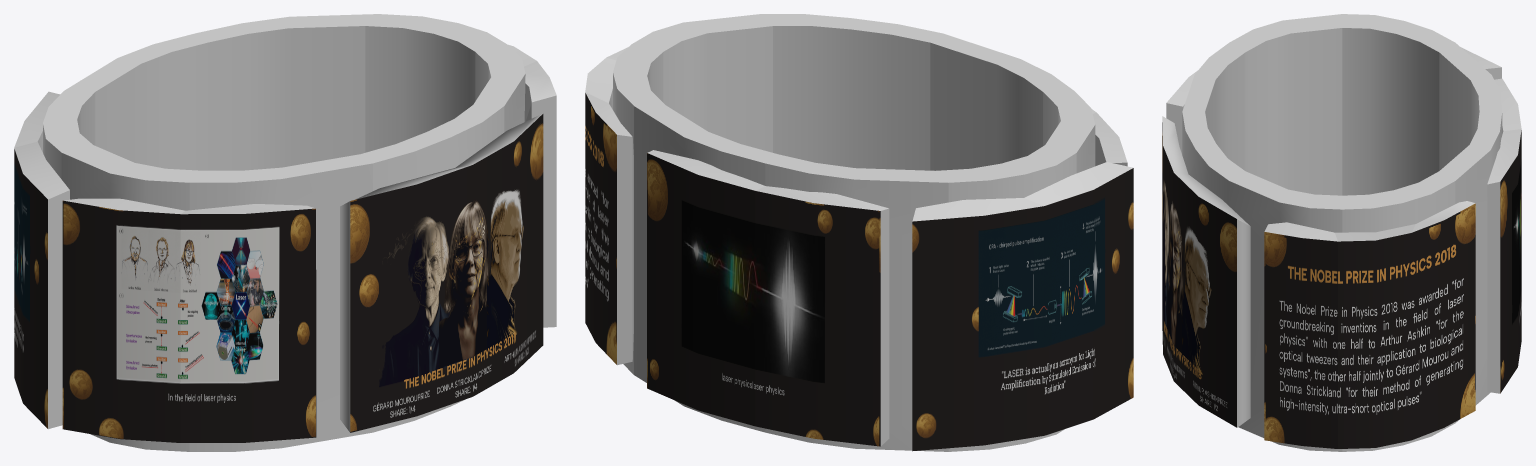
Rendered from gerard donna1.fbx.
The picture shows the model from 3 angles, left to right: view 1: azimuth 30°, elevation 25°; view 2: azimuth 150°, elevation 25°; view 3: azimuth 270°, elevation 25°; orthographic projection. The views are drawn at different scales.
Parts seen in each view (by area): view 1: polySurface24, polySurface27, polySurface25, polySurface29; view 2: polySurface24, polySurface26, polySurface29, polySurface28; view 3: polySurface24, polySurface28, polySurface25, polySurface26.
Boxes of the visible parts, bbox=[...] form: polySurface24: bbox=[14, 14, 556, 451]; polySurface27: bbox=[62, 200, 316, 442]; polySurface25: bbox=[350, 114, 543, 432]; polySurface29: bbox=[14, 149, 47, 428]; polySurface24: bbox=[585, 14, 1133, 451]; polySurface26: bbox=[647, 153, 880, 446]; polySurface29: bbox=[912, 168, 1133, 451]; polySurface28: bbox=[585, 93, 616, 364]; polySurface24: bbox=[1162, 14, 1521, 451]; polySurface28: bbox=[1264, 203, 1475, 448]; polySurface25: bbox=[1162, 122, 1236, 427]; polySurface26: bbox=[1500, 130, 1521, 393].
Bounding box in the file's own units: 8.15 × 4.12 × 5.54.
6 materials, 5 textured.
